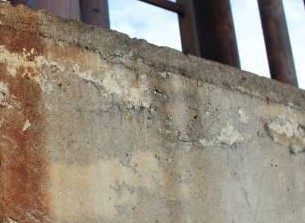Corrosion: (1, 1, 50, 223)
Spalling: (51, 47, 151, 111), (262, 116, 305, 156)
